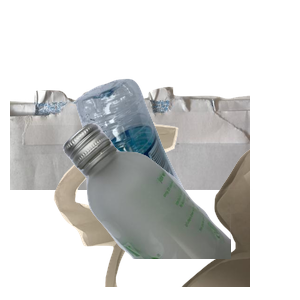glass: (60, 120, 300, 300)
paper: (10, 84, 250, 264)
plastic: (73, 76, 300, 256)
trash: (51, 120, 291, 300)
